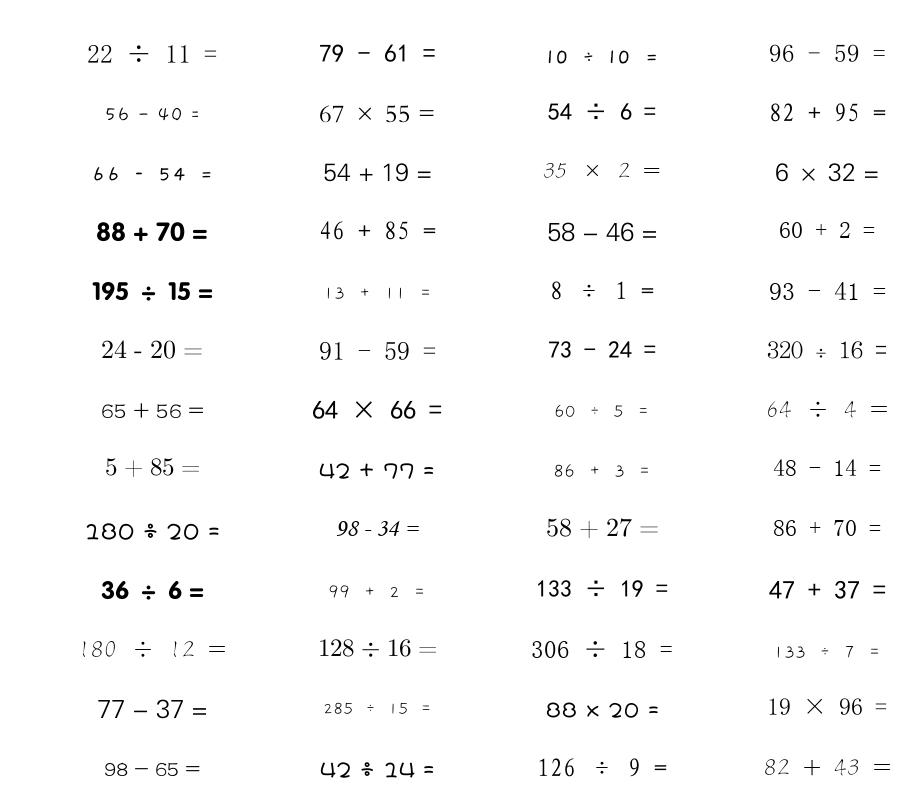MQ: (531, 640, 673, 658), (78, 641, 226, 658), (87, 44, 217, 63), (312, 400, 442, 419), (537, 758, 667, 777), (92, 281, 213, 301), (546, 518, 659, 539), (84, 523, 220, 540), (764, 758, 891, 776), (536, 580, 668, 597), (96, 222, 208, 242), (769, 103, 886, 122), (319, 221, 436, 240), (319, 341, 436, 360), (769, 580, 886, 599), (547, 222, 658, 242), (97, 699, 208, 719), (766, 400, 888, 418), (767, 341, 887, 359), (318, 639, 437, 657), (319, 44, 436, 62), (769, 44, 886, 62), (769, 282, 886, 300), (319, 105, 435, 123), (323, 163, 432, 182), (101, 580, 204, 600), (767, 698, 887, 715), (775, 163, 879, 182), (550, 281, 654, 300), (101, 340, 203, 359), (105, 458, 200, 478), (543, 162, 661, 178), (319, 463, 435, 479), (320, 762, 435, 778), (548, 103, 656, 120), (548, 341, 656, 358), (773, 459, 881, 476), (546, 702, 659, 718), (101, 402, 204, 419), (773, 520, 881, 536), (91, 167, 213, 181), (546, 50, 659, 64), (779, 222, 875, 238), (104, 107, 200, 122), (323, 287, 432, 300), (323, 702, 432, 715), (773, 646, 881, 659), (553, 464, 651, 478), (328, 585, 426, 599), (554, 404, 650, 418), (335, 520, 419, 536), (104, 762, 200, 776)
